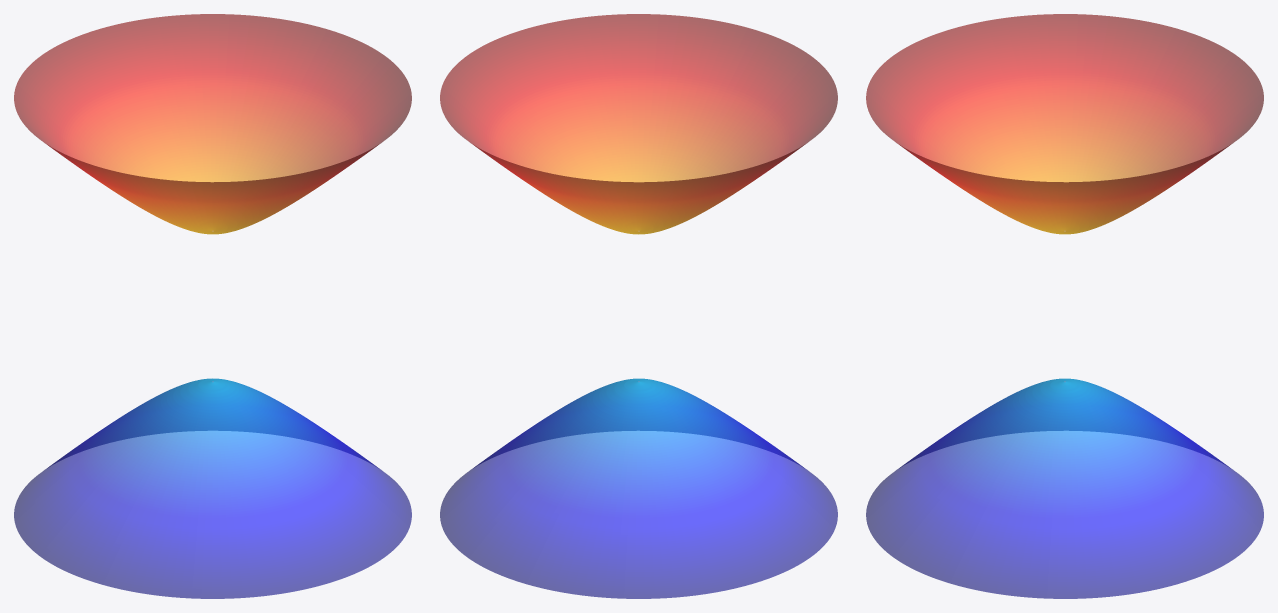
Rendered from hiperboloide2.gltf.
3 views of the same model, side by side, from view 1: azimuth 30°, elevation 25°; view 2: azimuth 150°, elevation 25°; view 3: azimuth 270°, elevation 25° (orthographic).
Parts seen in each view (by area): view 1: Renderer Node; view 2: Renderer Node; view 3: Renderer Node.
Part boxes in pixels (x1,y1,x2,y2): Renderer Node: (14, 14, 411, 598); Renderer Node: (440, 14, 837, 598); Renderer Node: (866, 14, 1263, 598).
Bounding box in the file's own units: 3.46 × 4 × 3.46.
1 material, 1 textured.
